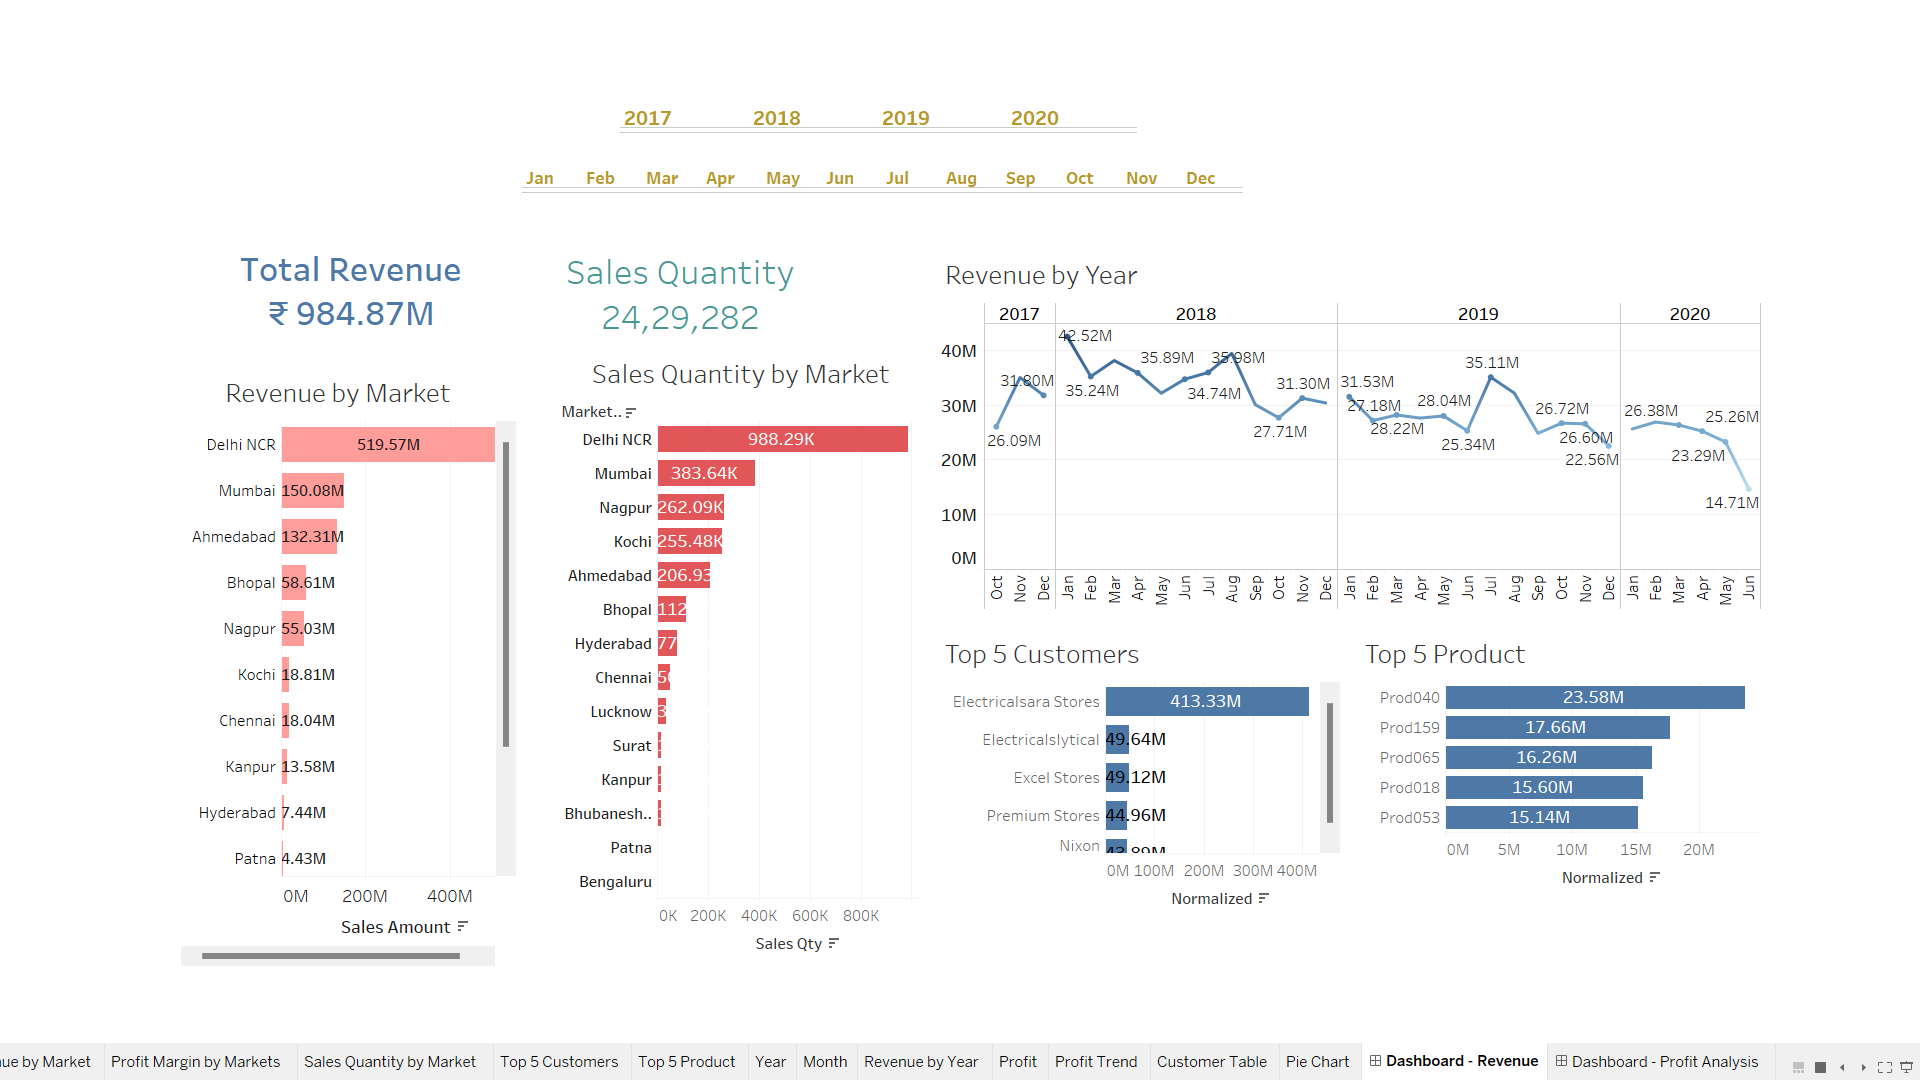

What the dashboard file says about the page in this screenshot:
{"tool":"tableau","page":{"name":"Dashboard - Revenue","canvas":[1600,900],"ordinal":1},"visuals":[{"type":"worksheet","title":"Year","mark":"Automatic","cols":["cy_date"],"box":[460,21,539,60]},{"type":"worksheet","title":"Month","mark":"Automatic","cols":["cy_date"],"box":[362,81,736,61]},{"type":"worksheet","title":"Revenue","mark":"Automatic","box":[71,159,257,120]},{"type":"worksheet","title":"Quantity","mark":"Automatic","box":[401,162,298,119]},{"type":"worksheet","title":"Revenue by Year","mark":"Automatic","rows":["Calculation_965459180865769472"],"cols":["cy_date","cy_date"],"box":[781,182,821,357]},{"type":"worksheet","title":"Sales Quantity by Market","mark":"Automatic","rows":["markets_name"],"cols":["sales_qty"],"box":[401,281,360,619]},{"type":"worksheet","title":"Revenue by Market","mark":"Automatic","rows":["markets_name"],"cols":["sales_amount"],"box":[21,300,335,595]},{"type":"worksheet","title":"Top 5 Customers","mark":"Automatic","rows":["custmer_name"],"cols":["Calculation_965459180865769472"],"box":[781,561,399,284]},{"type":"worksheet","title":"Top 5 Product","mark":"Automatic","rows":["product_code (products)"],"cols":["Calculation_965459180865769472"],"box":[1201,561,399,277]}]}

Visuals, with their boxes on the page's 1600x900 design canvas (x1, y1, x2, y2). These are canvas units, not pixel positions in the 1920x1080 screenshot, which may show the page scaled, cropped or inside an application window:
"Year" worksheet: <bbox>460, 21, 999, 81</bbox>
"Month" worksheet: <bbox>362, 81, 1098, 142</bbox>
"Revenue" worksheet: <bbox>71, 159, 328, 279</bbox>
"Quantity" worksheet: <bbox>401, 162, 699, 281</bbox>
"Revenue by Year" worksheet: <bbox>781, 182, 1602, 539</bbox>
"Sales Quantity by Market" worksheet: <bbox>401, 281, 761, 900</bbox>
"Revenue by Market" worksheet: <bbox>21, 300, 356, 895</bbox>
"Top 5 Customers" worksheet: <bbox>781, 561, 1180, 845</bbox>
"Top 5 Product" worksheet: <bbox>1201, 561, 1600, 838</bbox>
